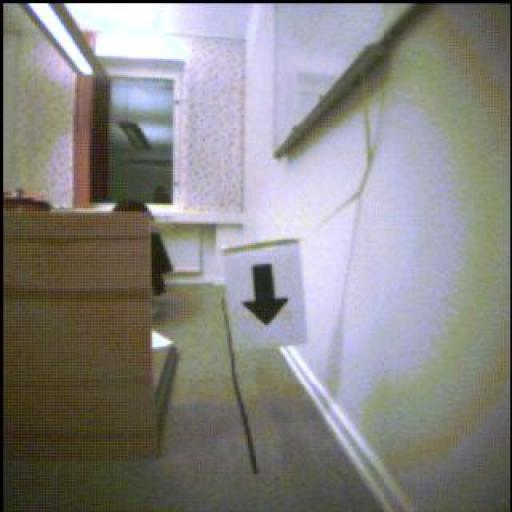arrow: (244, 265, 289, 326)
